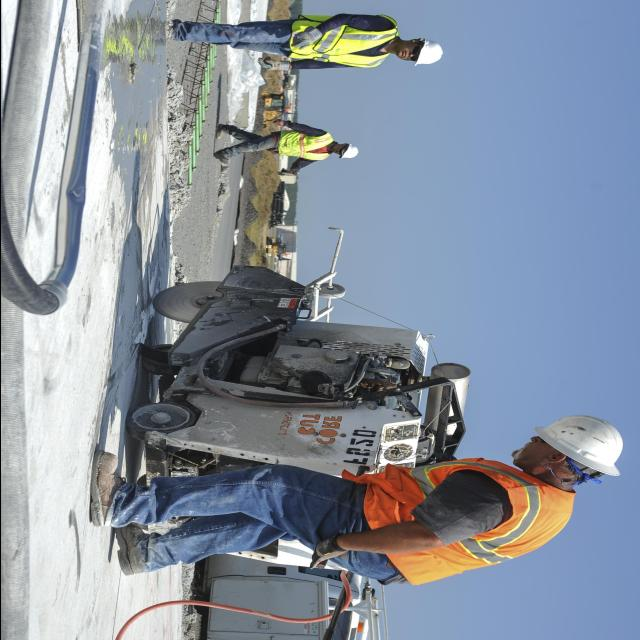helmet: (534, 405, 636, 482), (412, 29, 446, 72), (339, 140, 365, 165)
jacket: (348, 433, 576, 597), (286, 10, 398, 74), (277, 128, 333, 164)
